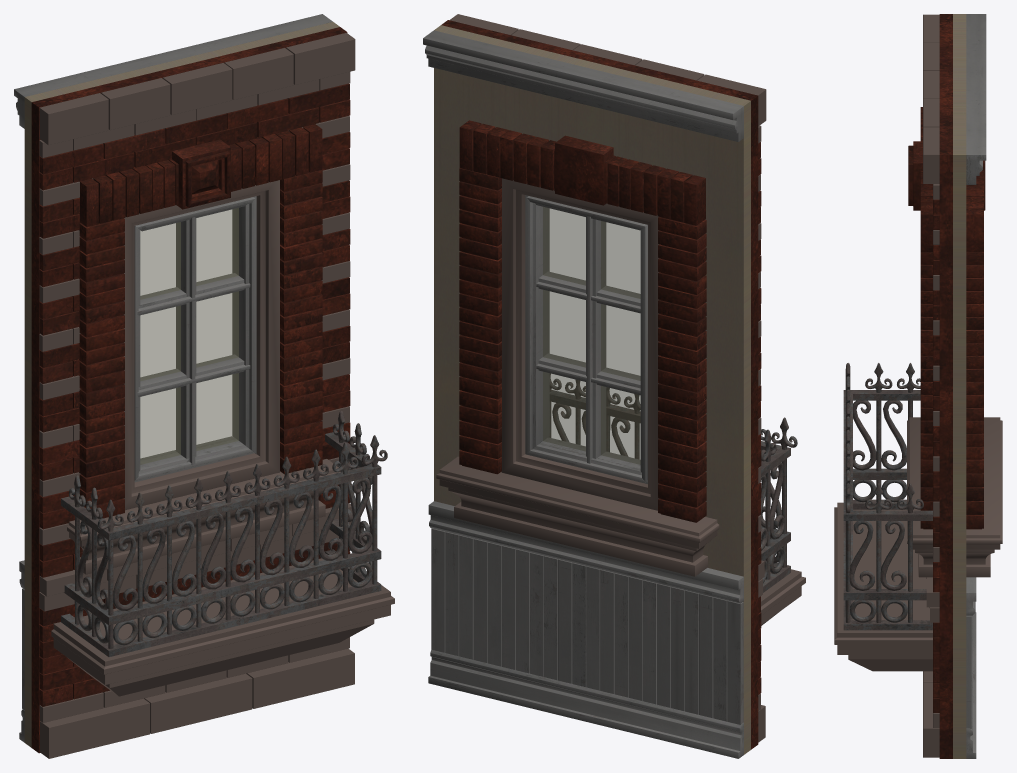
The model's file is SK4 WINDOW 1 BALCONY.fbx.
The picture shows the model from 3 angles, left to right: view 1: azimuth 30°, elevation 25°; view 2: azimuth 150°, elevation 25°; view 3: azimuth 270°, elevation 25°; orthographic projection. The views are drawn at different scales.
Parts seen in each view (by area): view 1: SK4 WINDOW 1 BALCONY.012; view 2: SK4 WINDOW 1 BALCONY.012; view 3: SK4 WINDOW 1 BALCONY.012.
Boxes of the visible parts, x1,y1,x2,y2 form: SK4 WINDOW 1 BALCONY.012: [14, 14, 394, 758]; SK4 WINDOW 1 BALCONY.012: [423, 14, 805, 758]; SK4 WINDOW 1 BALCONY.012: [834, 14, 1002, 758].
Size of the model in its own units: 200 by 400 by 101.
